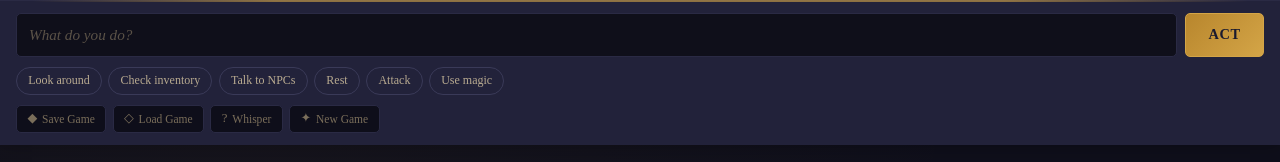
Test: GameInputArea — quick actions › replaces existing input text when quick action is clicked
Type "Old text" into the field with placeholder "What do you do?". click: (597, 35)
box: left=16, top=13, right=1177, bottom=57
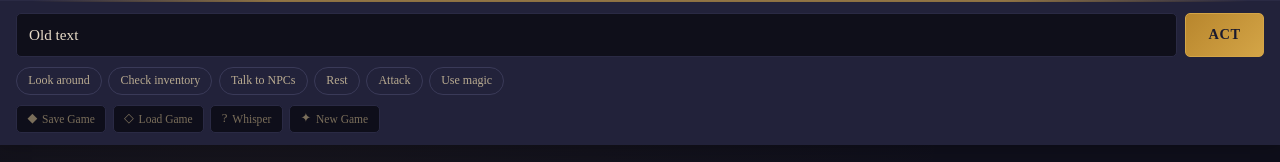
Click the button "Use magic". click: (467, 81)
box: left=429, top=67, right=504, bottom=95
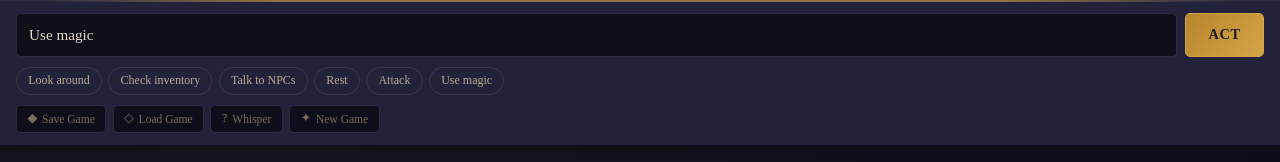
Now the field with placeholder "What do you do?" holds "Use magic", box left=16, top=13, right=1177, bottom=57
